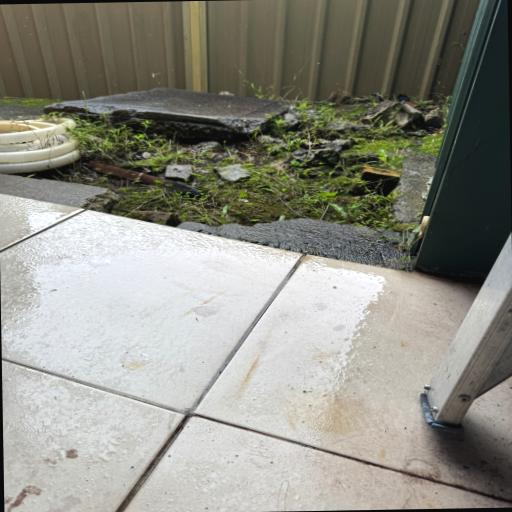gap: (131, 210, 412, 270), (0, 174, 120, 213)
